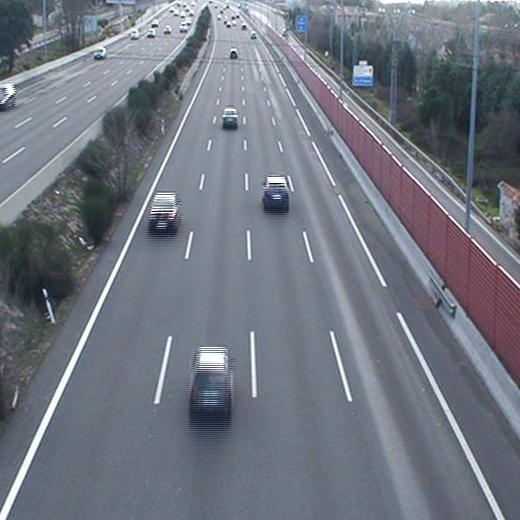car: (184, 346, 236, 423), (147, 191, 183, 234), (260, 174, 290, 212), (221, 107, 240, 129), (228, 49, 239, 61)
